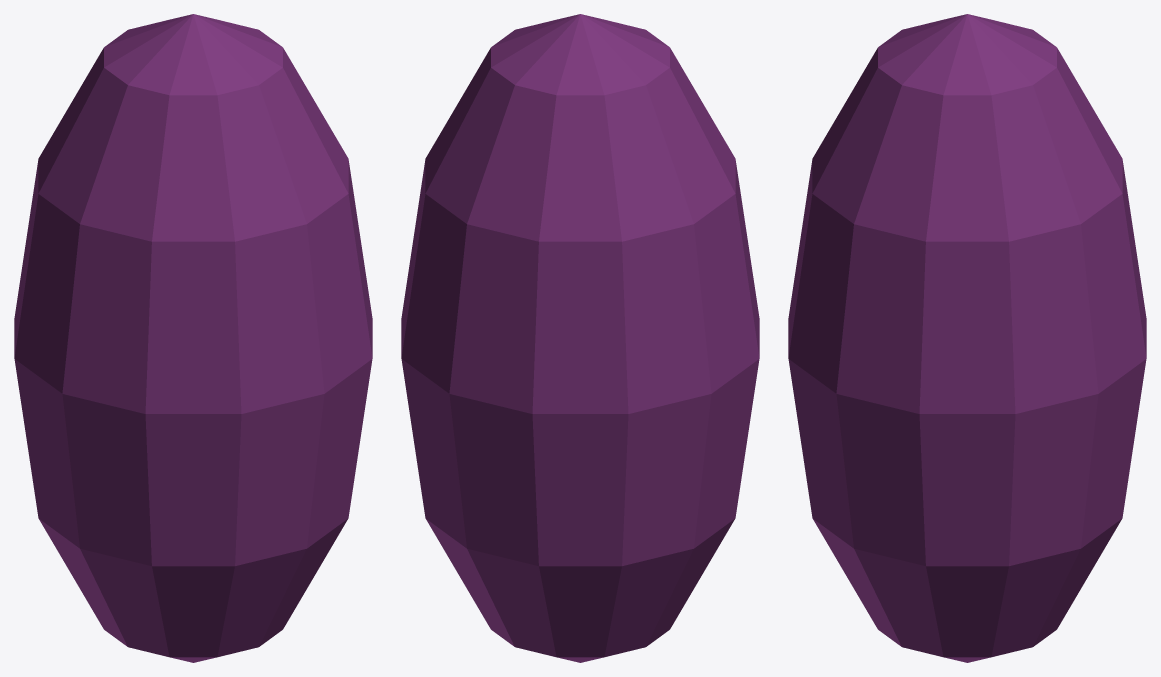
Rendered from void_particle_2.gltf.
3 renders of one model, left to right at view 1: azimuth 30°, elevation 25°; view 2: azimuth 150°, elevation 25°; view 3: azimuth 270°, elevation 25°, orthographic.
Parts seen in each view (by area): view 1: sphere; view 2: sphere; view 3: sphere.
Part boxes in pixels (x1=…): sphere: x1=14, y1=14, x2=372, y2=662; sphere: x1=401, y1=14, x2=759, y2=662; sphere: x1=788, y1=14, x2=1146, y2=662.
Bounding box in the file's own units: 0.125 × 0.25 × 0.125.
Materials: 1 (1 with a texture image).
